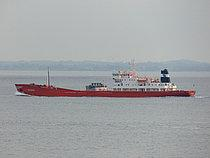Ship: (8, 57, 199, 102)
